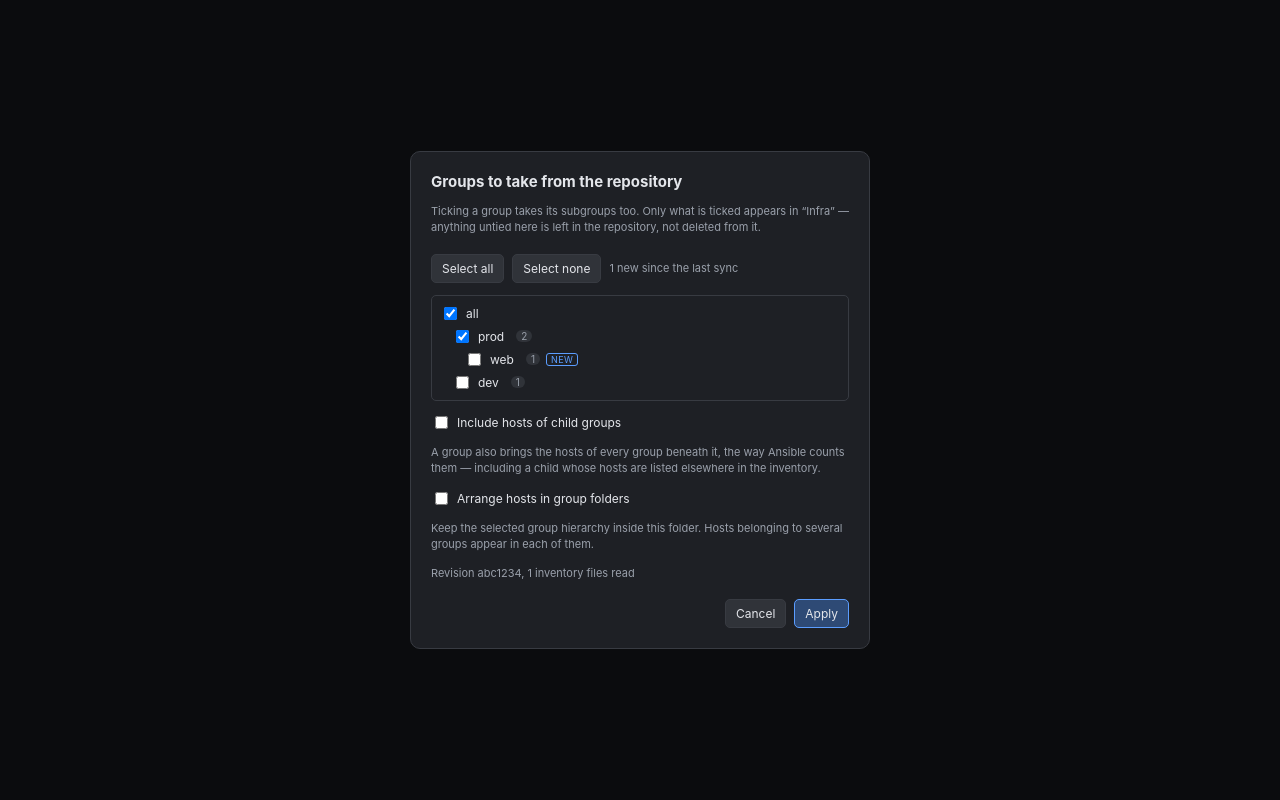
Scenario: the sync dialog › keeps Apply shut when it cannot say what Apply would take
Click the button "Select none": [557, 268] box [512,254,601,283]
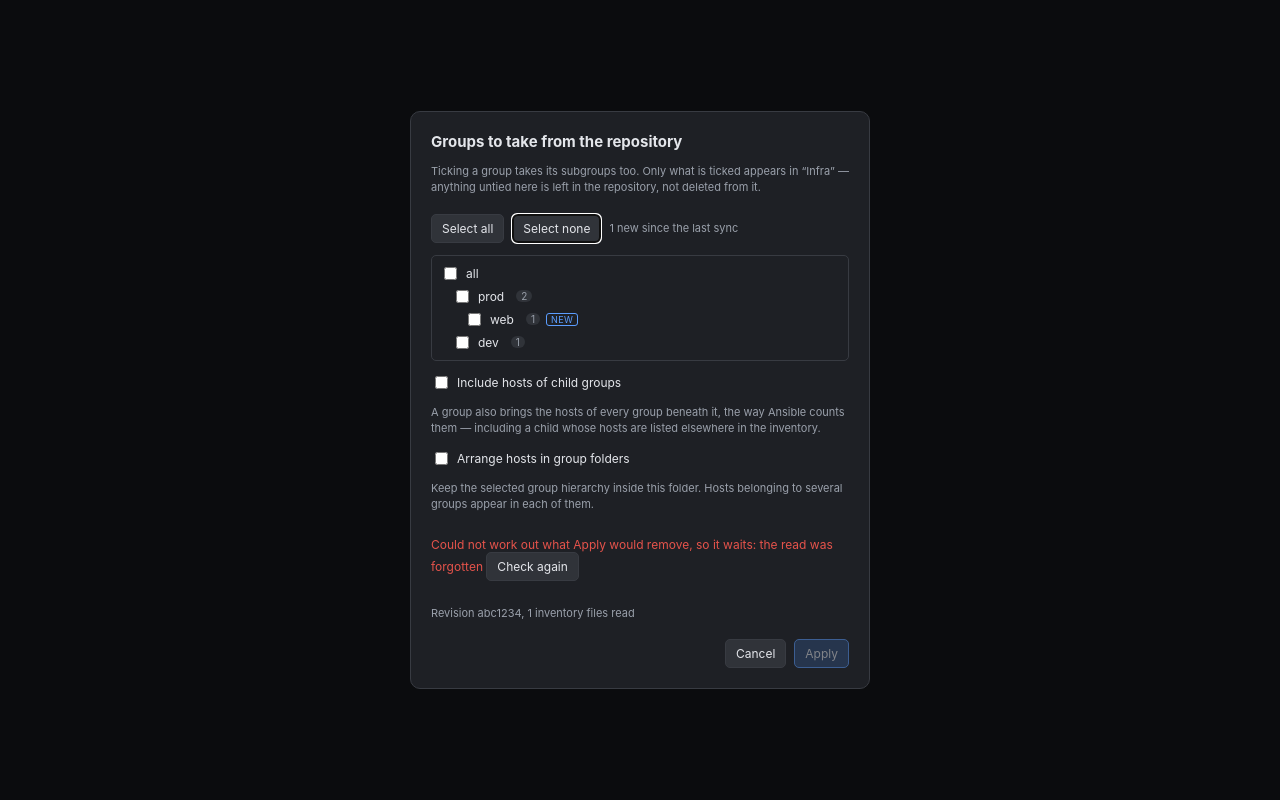
Result: the text "the read was forgotten" is shown at [431,537,833,574]
Result: the button "Apply" is disabled at [794,639,849,668]
Click the button "Check again": [533, 566] box [486,552,579,581]
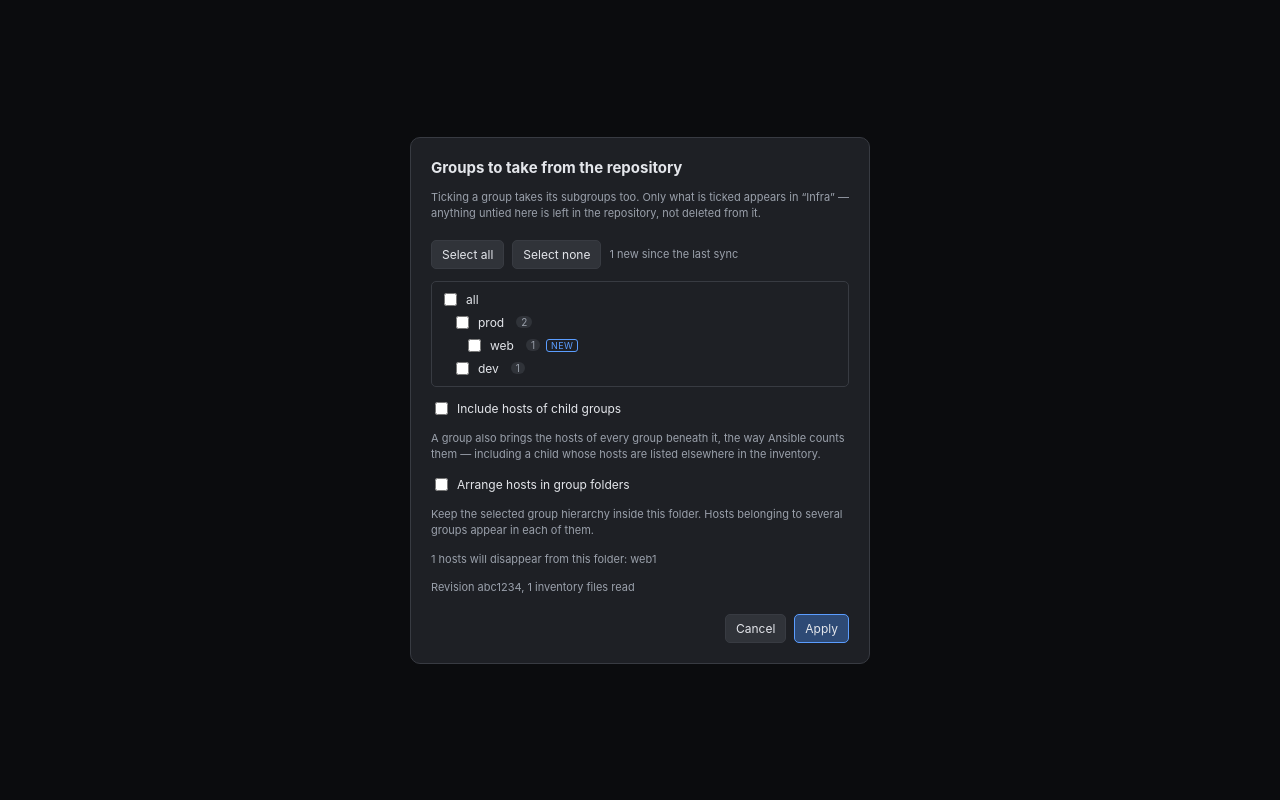
Result: the text "1 hosts will disappear from this folder: web1" is shown at [431,552,656,566]
Result: the button "Apply" is enabled at [794,614,849,642]
